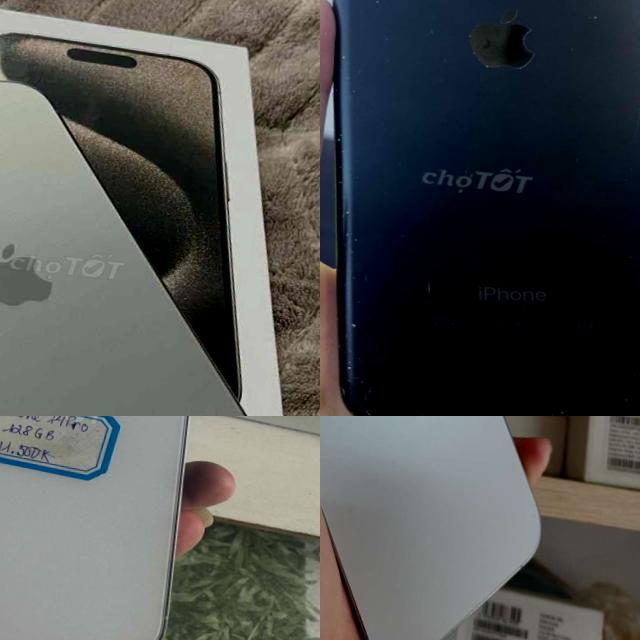gen_14: (0, 416, 235, 640)
gen_15: (0, 50, 320, 416), (320, 416, 586, 640)
gen_7_8: (320, 0, 640, 416)
